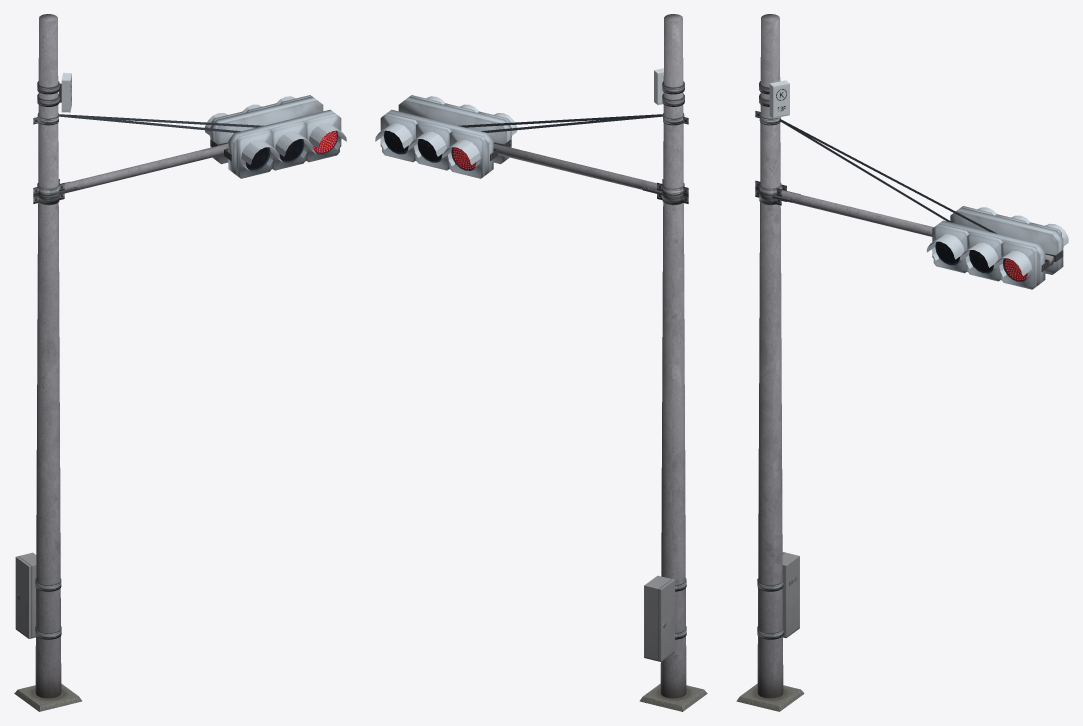
The model's file is Traffic_light_Auto_2.fbx.
The picture shows the model from 3 angles, left to right: view 1: azimuth 30°, elevation 25°; view 2: azimuth 150°, elevation 25°; view 3: azimuth 330°, elevation 25°; orthographic projection.
Parts seen in each view (by area): view 1: 00_pillar, 30_Auto_light, 35_Auto_light_2, 80_box_L, 10_Auto_bar, 86_box_SS, 20_Auto_latch_bar; view 2: 00_pillar, 35_Auto_light_2, 30_Auto_light, 80_box_L, 10_Auto_bar, 86_box_SS, 20_Auto_latch_bar; view 3: 00_pillar, 30_Auto_light, 35_Auto_light_2, 80_box_L, 10_Auto_bar, 86_box_SS, 20_Auto_latch_bar.
Part boxes in pixels (<box>): 00_pillar: <box>14,14,82,711</box>; 30_Auto_light: <box>59,109,346,178</box>; 35_Auto_light_2: <box>61,95,323,164</box>; 80_box_L: <box>15,552,61,639</box>; 10_Auto_bar: <box>64,143,228,189</box>; 86_box_SS: <box>37,72,71,112</box>; 20_Auto_latch_bar: <box>33,179,78,205</box>; 00_pillar: <box>639,14,707,711</box>; 35_Auto_light_2: <box>375,109,662,178</box>; 30_Auto_light: <box>398,95,660,164</box>; 80_box_L: <box>644,575,686,661</box>; 10_Auto_bar: <box>493,143,656,189</box>; 86_box_SS: <box>654,68,684,106</box>; 20_Auto_latch_bar: <box>643,179,688,205</box>; 00_pillar: <box>736,14,804,711</box>; 30_Auto_light: <box>779,119,1049,289</box>; 35_Auto_light_2: <box>781,119,1068,274</box>; 80_box_L: <box>757,552,799,639</box>; 10_Auto_bar: <box>781,190,1054,265</box>; 86_box_SS: <box>759,80,789,118</box>; 20_Auto_latch_bar: <box>755,180,800,205</box>.
Bounding box in the file's own units: 3.51 × 7.5 × 0.938.
